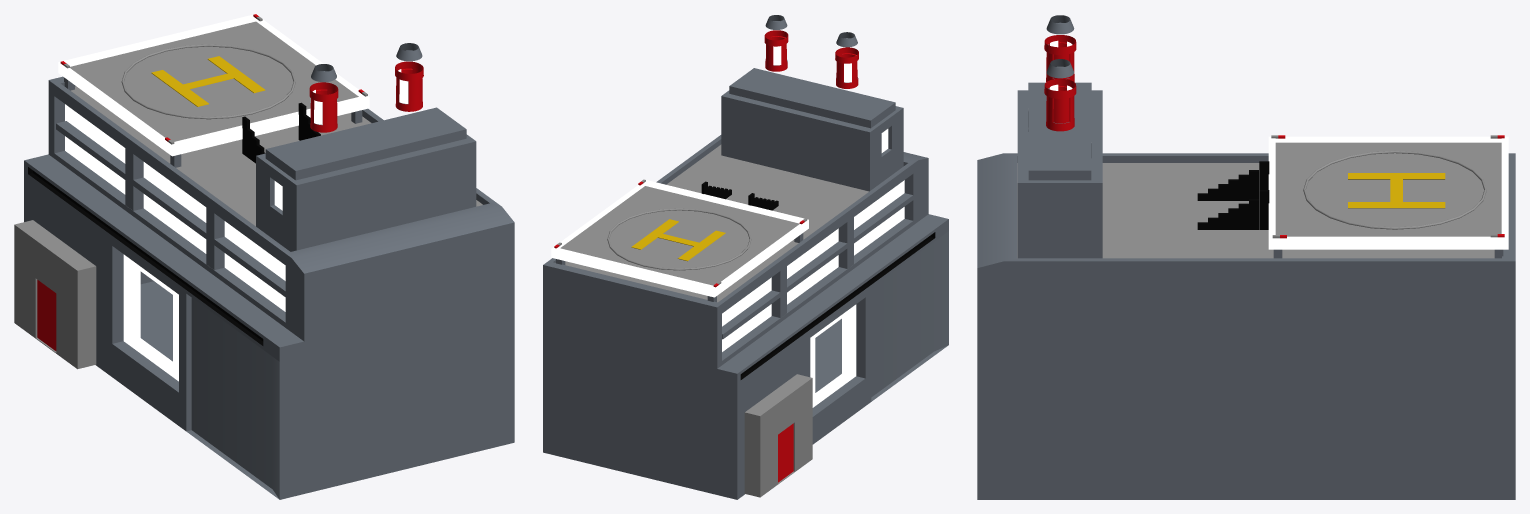
File: Building 2.fbx
The picture shows the model from 3 angles, left to right: view 1: azimuth 30°, elevation 25°; view 2: azimuth 150°, elevation 25°; view 3: azimuth 270°, elevation 25°; orthographic projection. The views are drawn at different scales.
Parts seen in each view (by area): view 1: Cube.016; view 2: Cube.016; view 3: Cube.016.
Boxes of the visible parts, box(x1,y1,x2,y2) form: Cube.016: box(14, 14, 514, 499); Cube.016: box(543, 15, 948, 499); Cube.016: box(977, 15, 1515, 499).
Bounding box in the file's own units: 1205 × 1738 × 2104.
